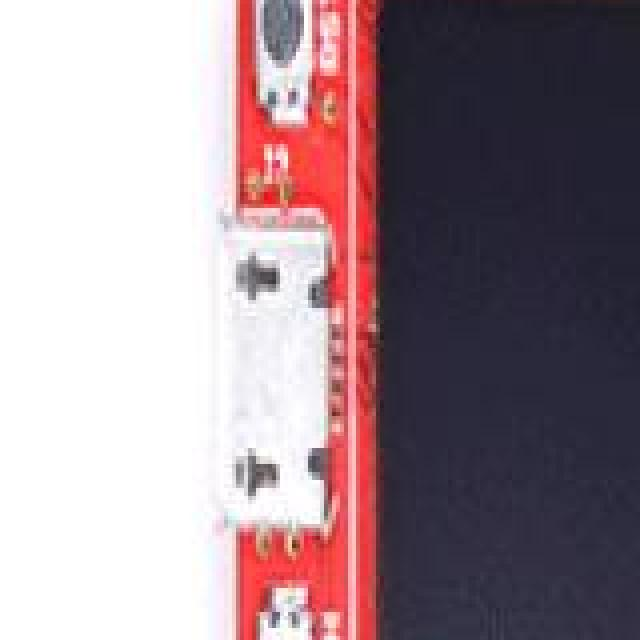connector: (212, 192, 342, 542)
display: (368, 0, 640, 640)
switch: (252, 0, 320, 120), (252, 588, 312, 640)
